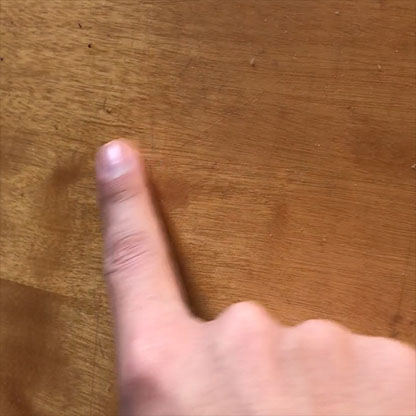fingertip: (86, 137, 151, 196)
